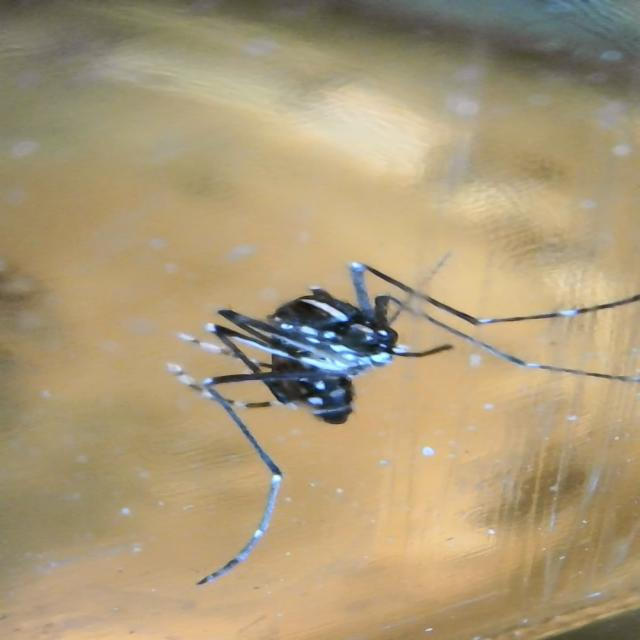albopictus: (156, 244, 640, 479)
